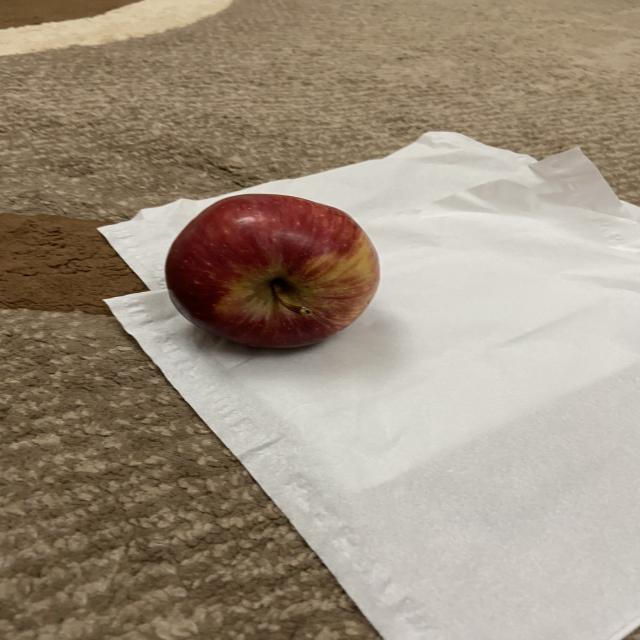apple: (160, 191, 386, 357)
